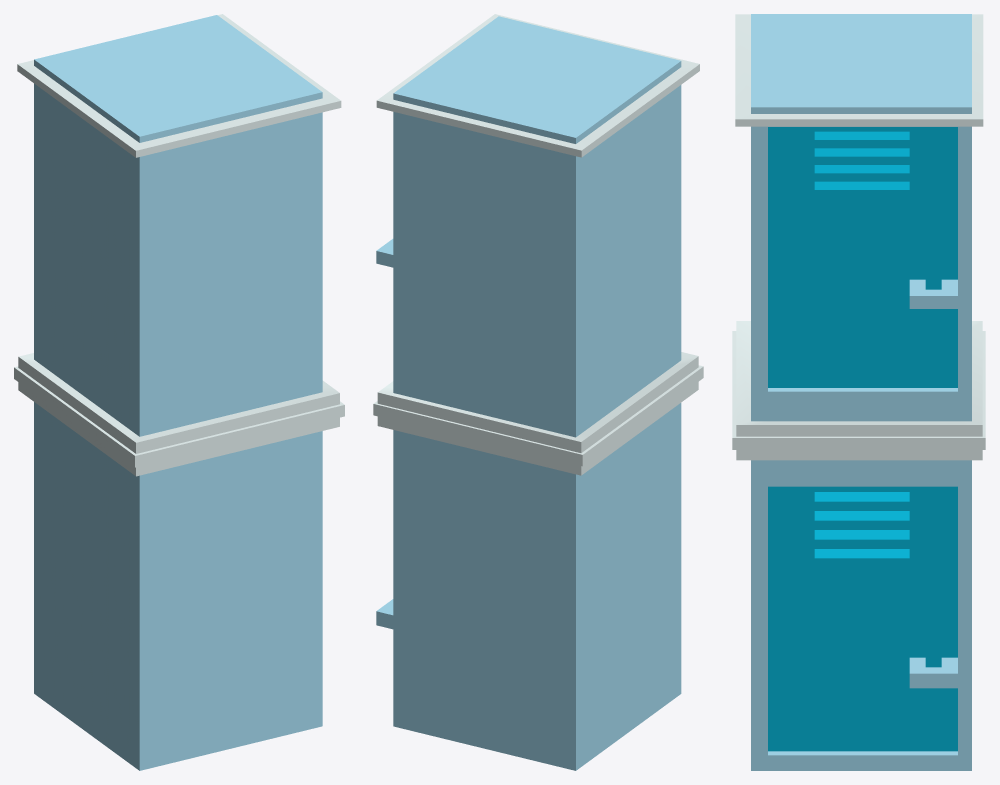
The model's file is lockers.fbx.
3 views of the same model, side by side, from view 1: azimuth 30°, elevation 25°; view 2: azimuth 150°, elevation 25°; view 3: azimuth 270°, elevation 25° (orthographic). The views are drawn at different scales.
Parts seen in each view (by area): view 1: Cube; view 2: Cube; view 3: Cube.
Part boxes in pixels (x1=…): Cube: x1=14, y1=14, x2=344, y2=770; Cube: x1=373, y1=14, x2=703, y2=770; Cube: x1=732, y1=14, x2=985, y2=770.
Size of the model in its own units: 241 by 663 by 229.
